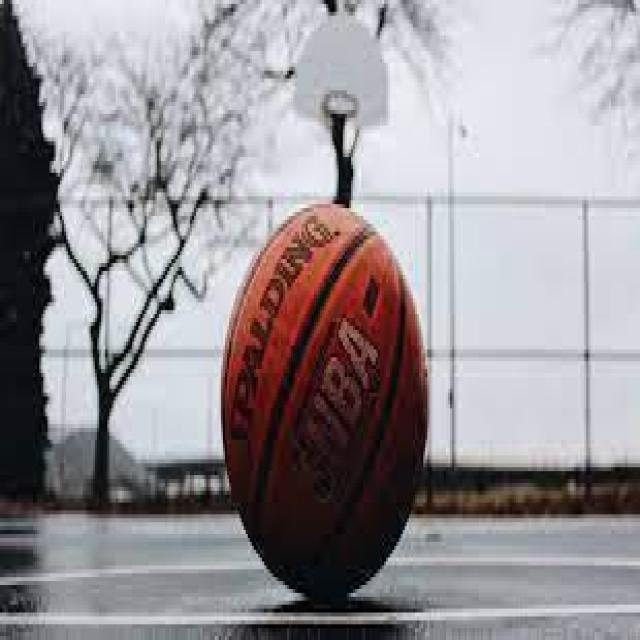basketball: (219, 200, 427, 601)
